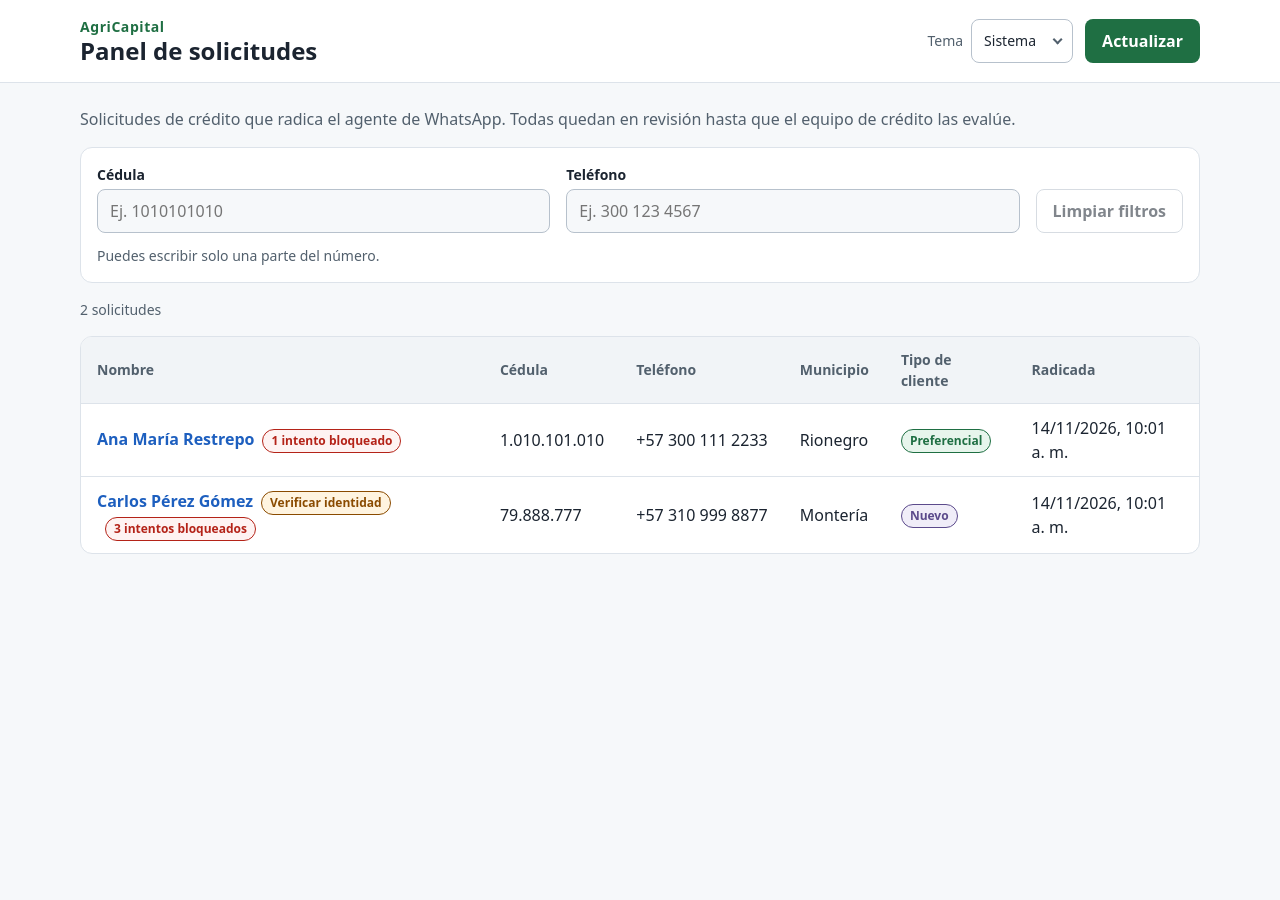
Test: Panel de solicitudes › marca las solicitudes con intentos bloqueados en la tabla y en el detalle
Expected: the text "1 intento bloqueado" is shown, [262, 429, 402, 453]
Expected: the text "3 intentos bloqueados" is shown, [105, 517, 256, 541]
Click the button "Ana María Restrepo". click: (176, 439)
box: [97, 427, 254, 451]
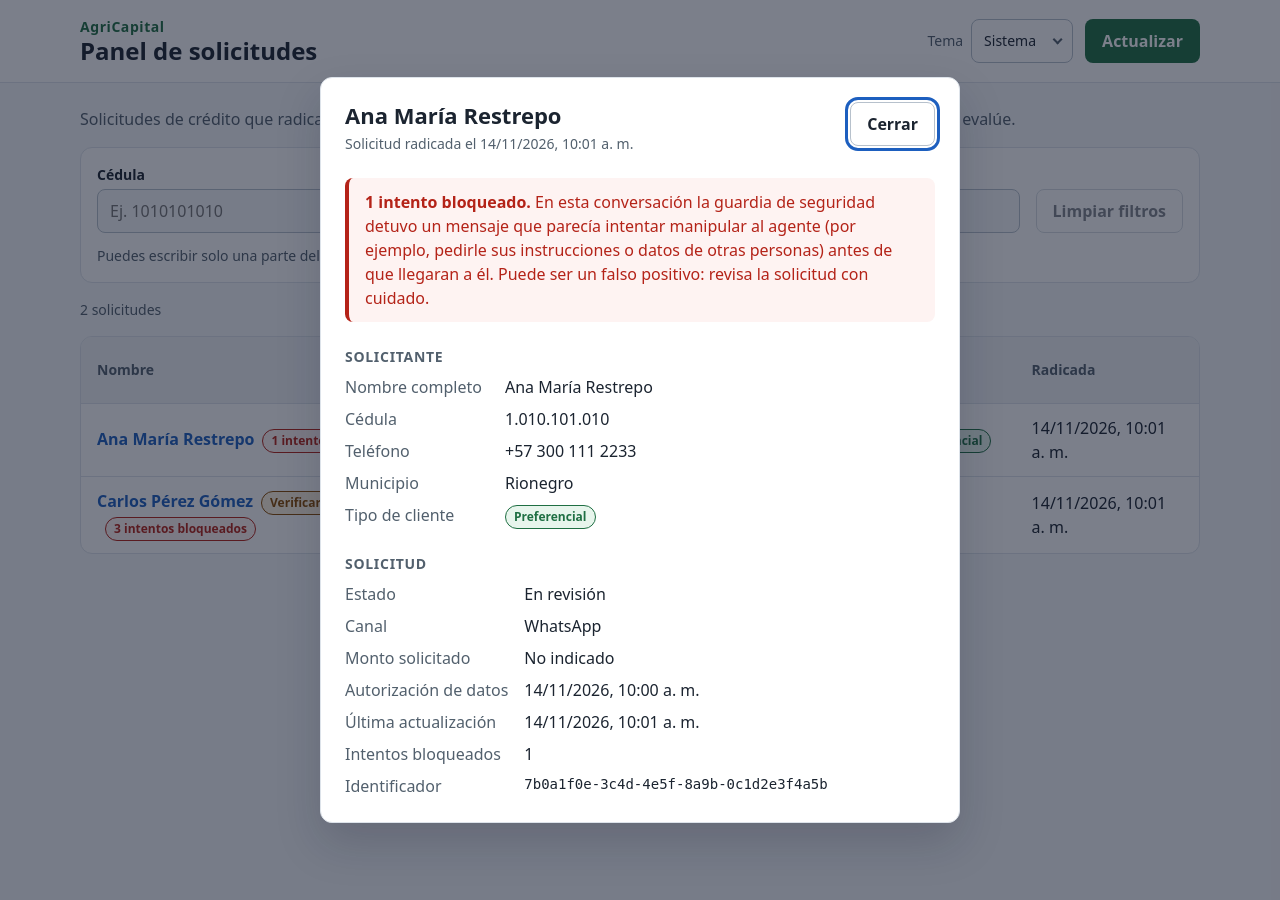
Expected: the text "1" is shown, [524, 743, 534, 765]
